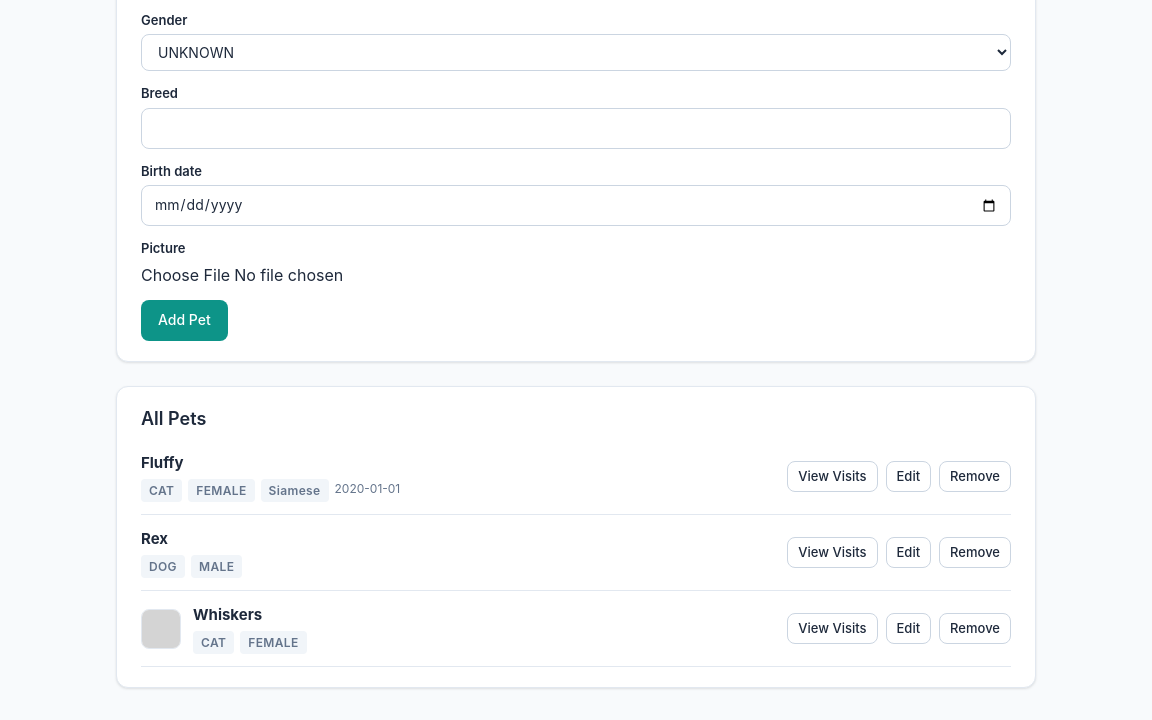
Test case: PetsPage › clicking edit populates the form with the pet's current values
(page scrolled)
Expected: the text "Fluffy" is shown, x1=141 y1=453 x2=184 y2=472
Click the button "Edit" in the row of "Fluffy" at (908, 476), box x1=886 y1=461 x2=931 y2=492
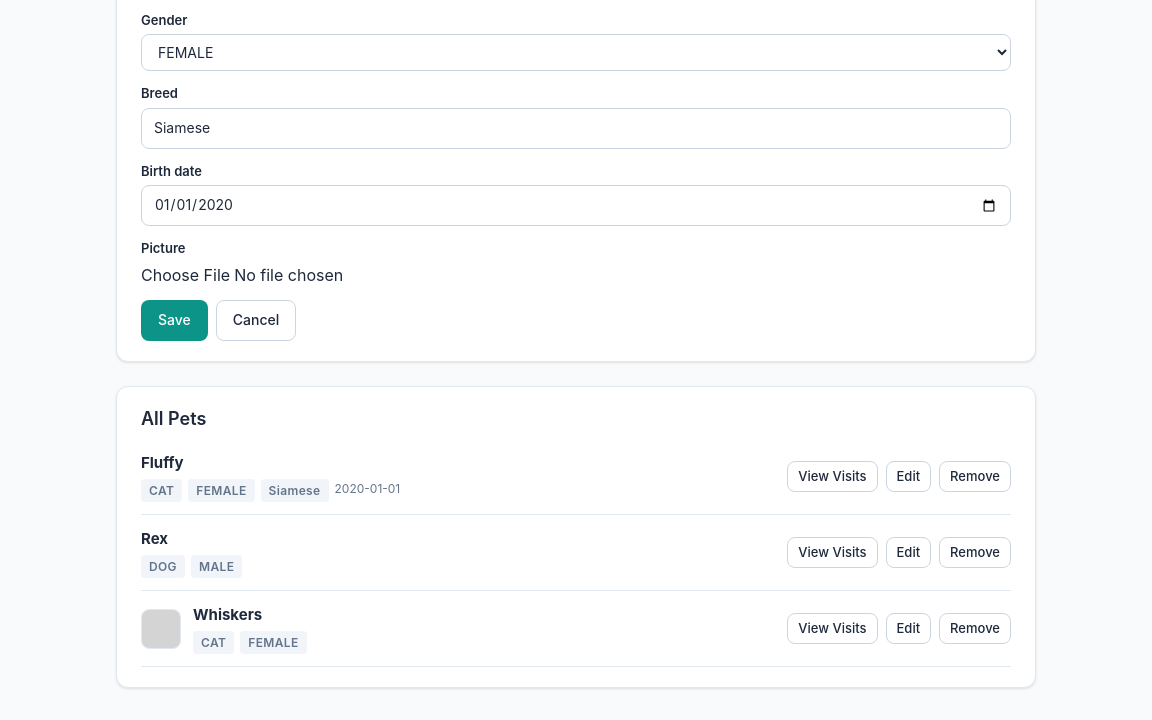
Expected: the field holds "Siamese", x1=141 y1=108 x2=1011 y2=149
Expected: the button "Save" is shown, x1=141 y1=300 x2=208 y2=340
Expected: the button "Cancel" is shown, x1=216 y1=300 x2=296 y2=340
